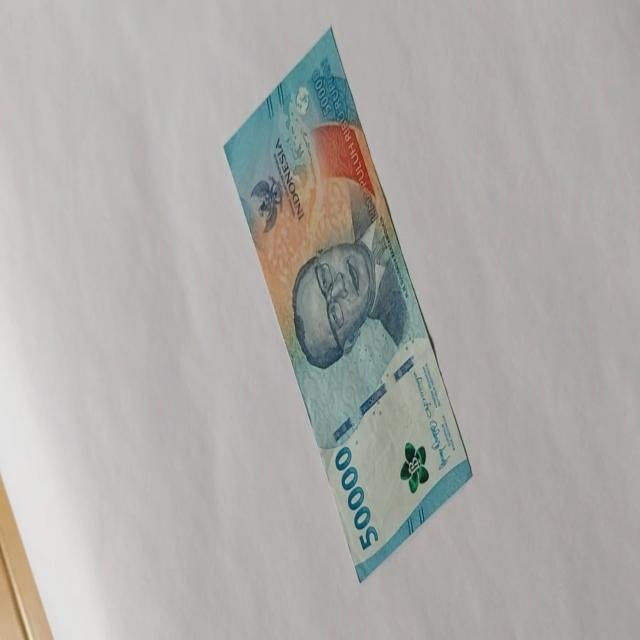lima puluh ribu rupiah: (221, 24, 473, 582), (333, 443, 379, 552)
